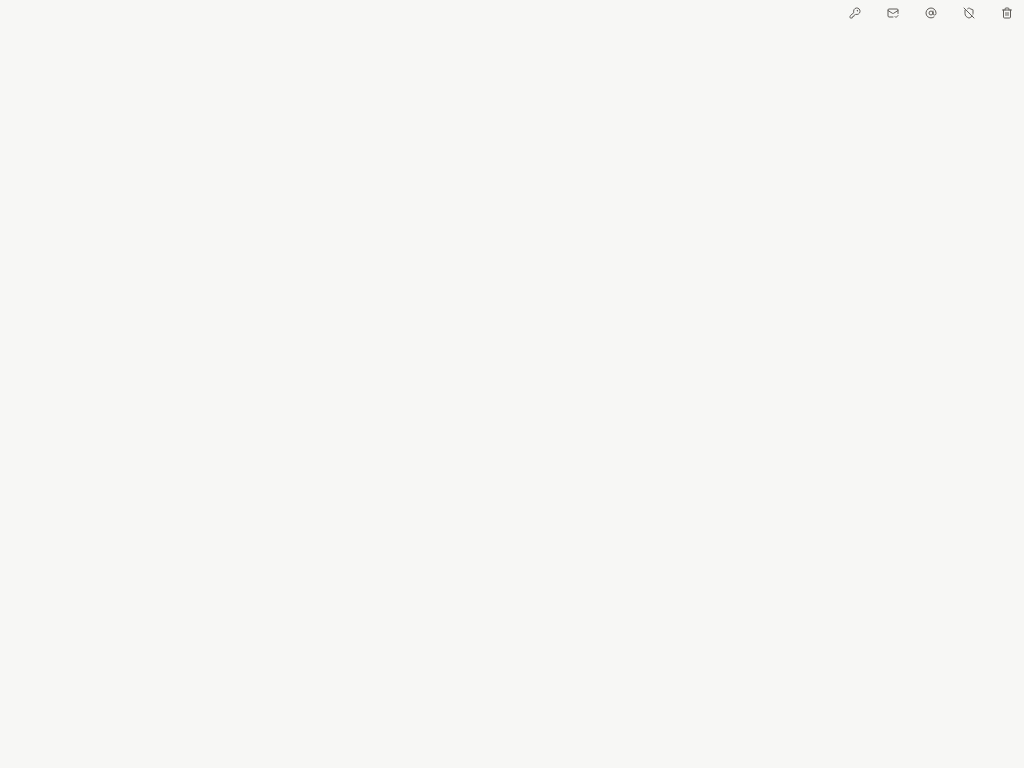
Scenario: UserRowActions: change email › will not submit until the new address is typed twice and matches
Click the button named "change email for tester@example.com" at x=931, y=13, box top-left (914, 0), bottom-right (948, 26)
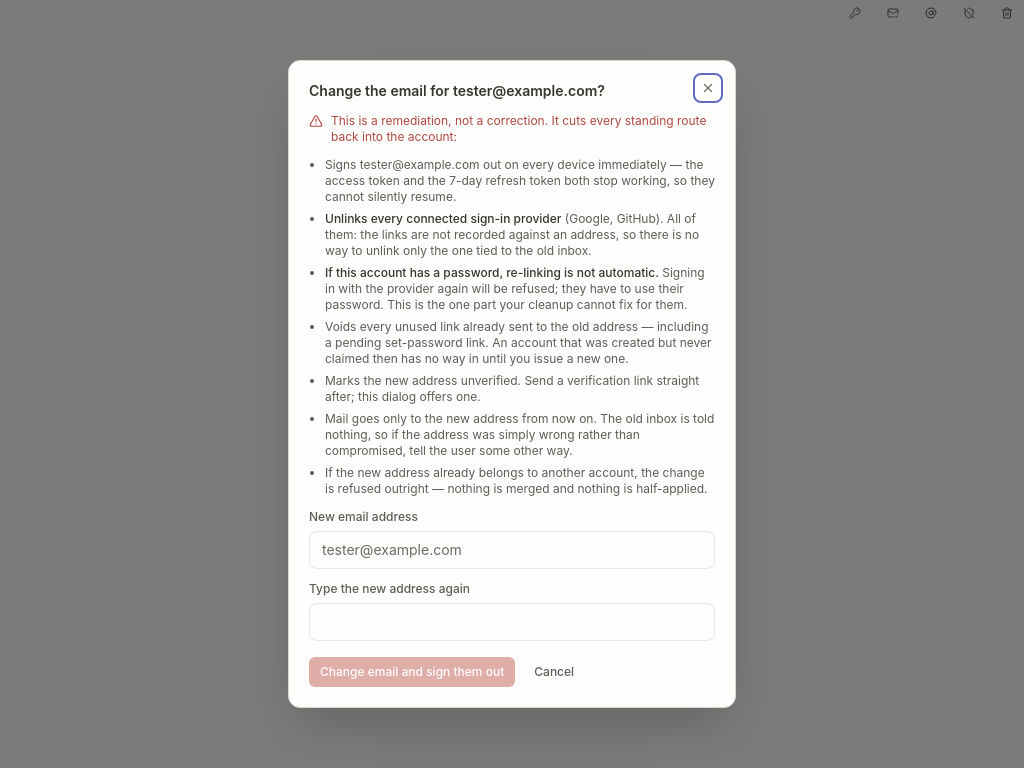
Expected: the button "Change email and sign them out" is disabled, top-left (309, 657), bottom-right (515, 687)
Click the field labelled "New email address" at x=512, y=550, box top-left (309, 531), bottom-right (715, 569)
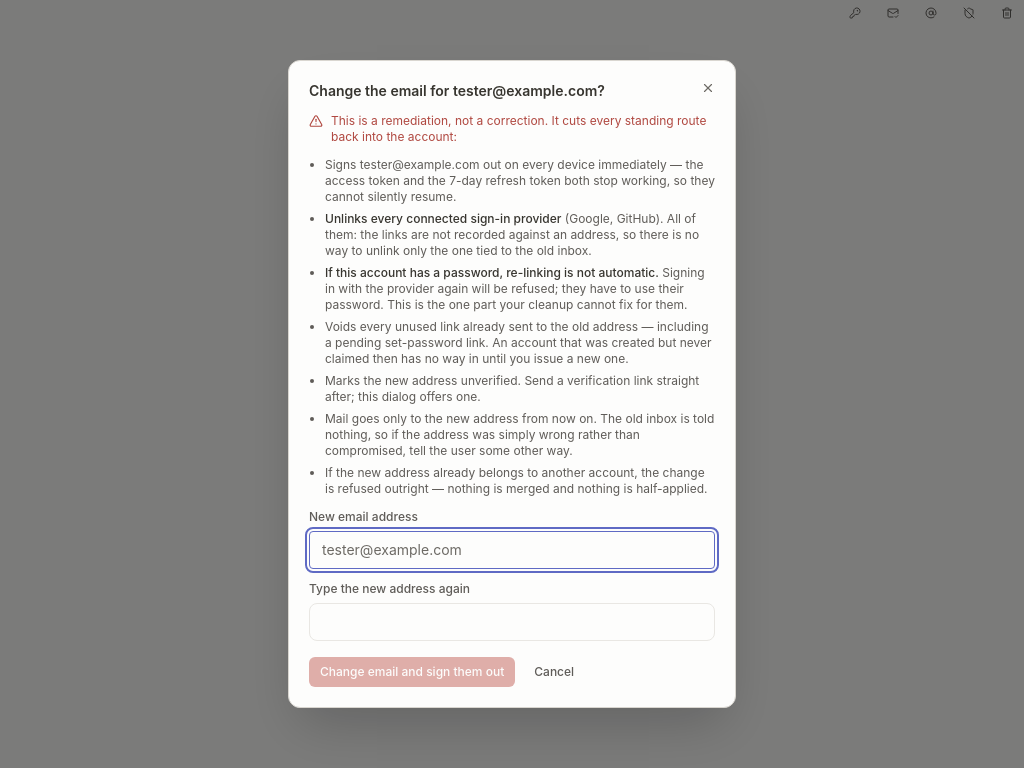
Type keys "moved@example.com"
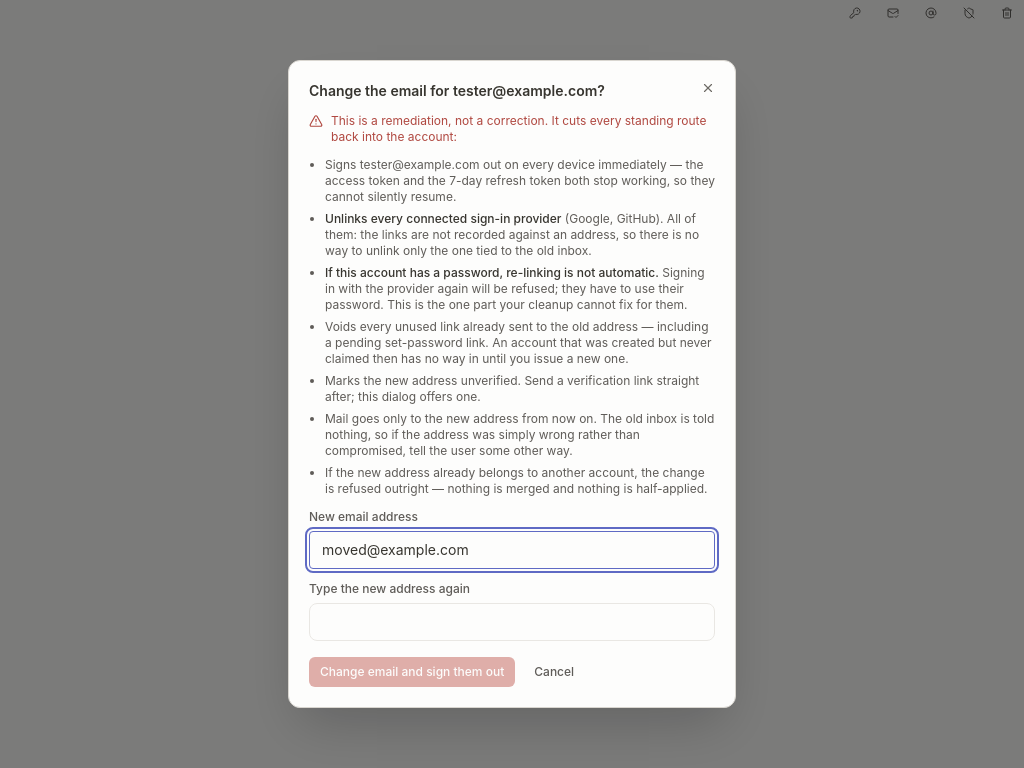
Expected: the button "Change email and sign them out" is disabled, top-left (309, 657), bottom-right (515, 687)
Click the field labelled "Type the new address again" at x=512, y=622, box top-left (309, 603), bottom-right (715, 641)
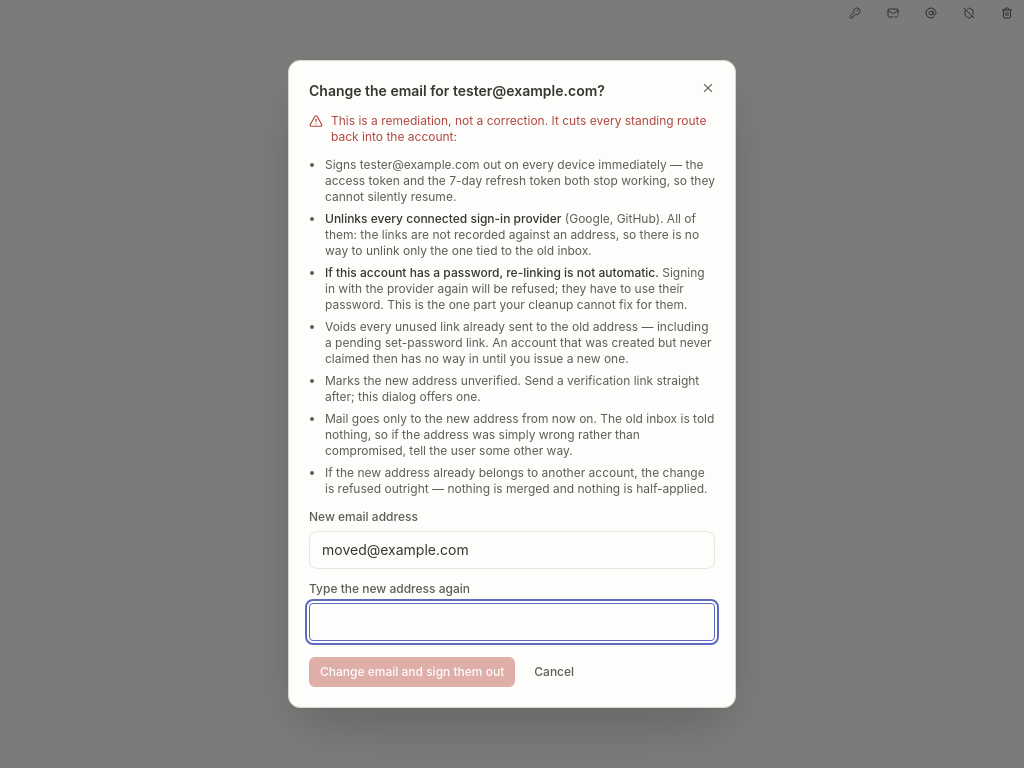
Type keys "moved@exmaple.com"
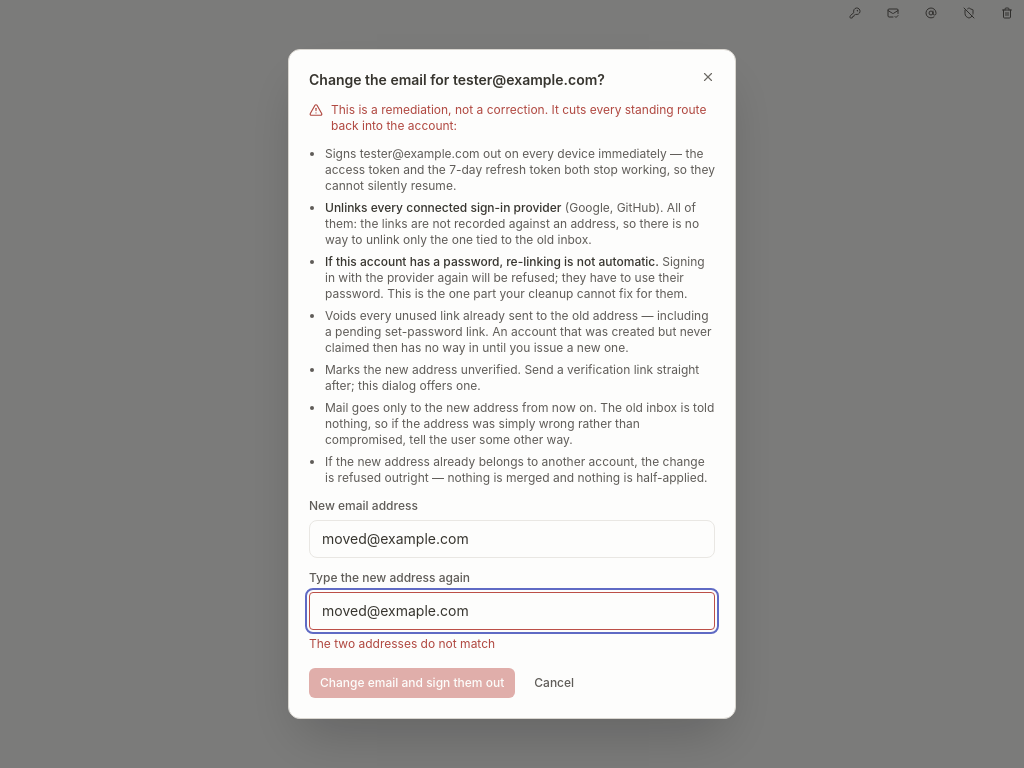
Expected: the button "Change email and sign them out" is disabled, top-left (309, 668), bottom-right (515, 698)
Expected: the text "The two addresses do not match" is shown, top-left (309, 636), bottom-right (495, 651)
